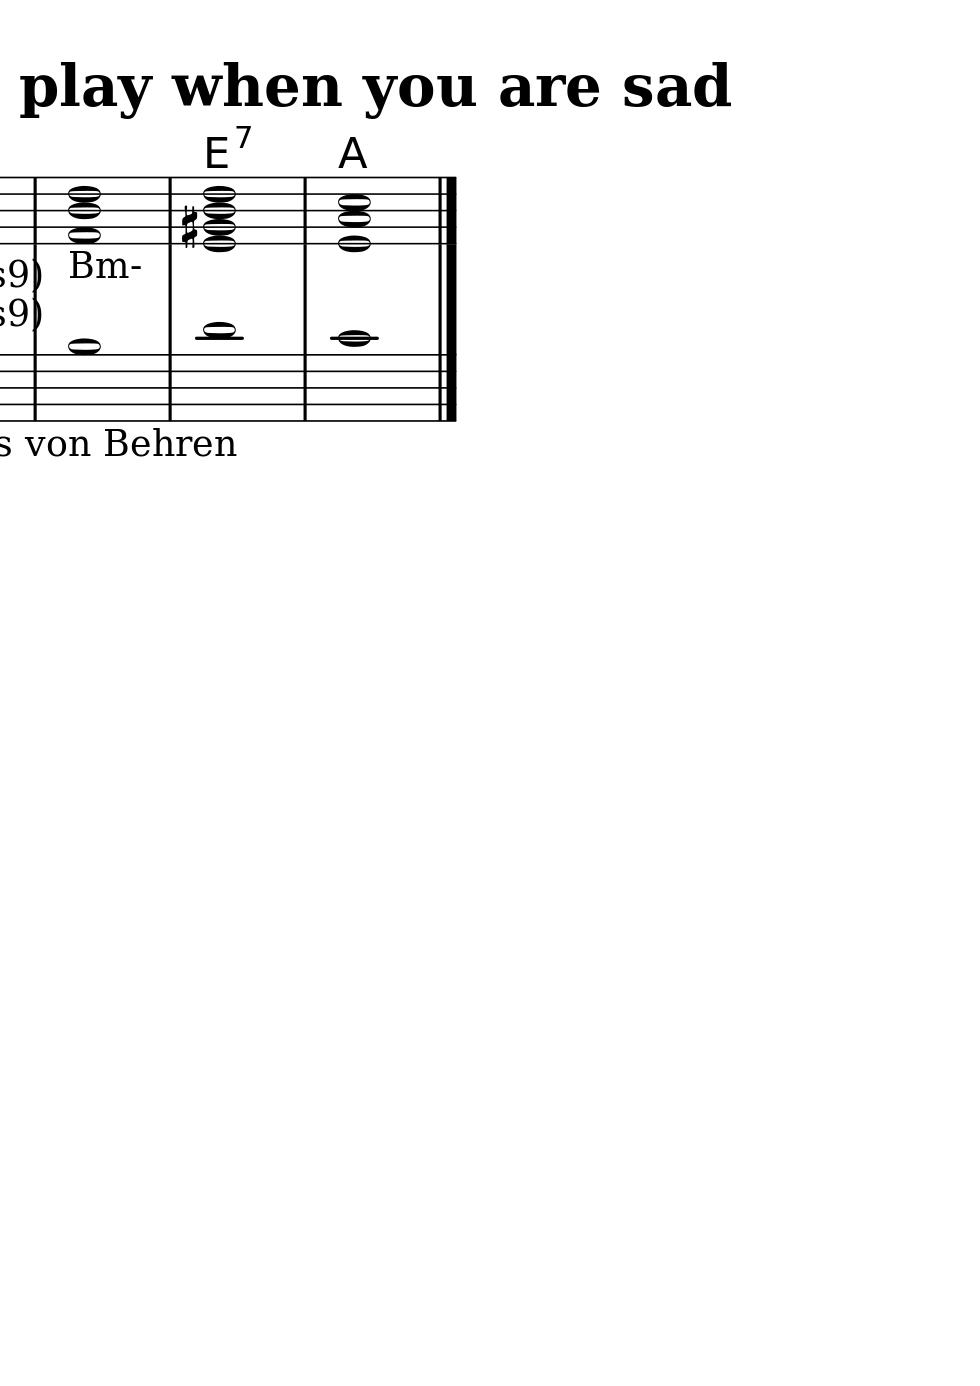1_10: (330, 328, 379, 423)
1_11: (194, 320, 243, 422)
1_4th: (202, 173, 237, 256)
1_9: (66, 336, 103, 426)
1_th: (336, 173, 371, 253), (67, 174, 101, 246)
Final_barline: (433, 176, 460, 244), (432, 354, 459, 422)
Sharp: (178, 203, 202, 251)
Single_barline: (296, 354, 314, 421), (27, 177, 43, 247), (161, 177, 178, 244), (296, 178, 313, 244), (162, 354, 178, 421), (25, 354, 41, 420)
